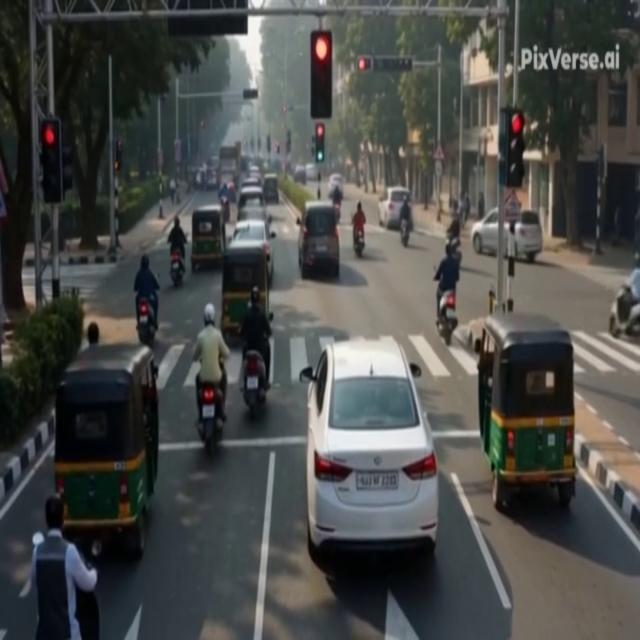car: (300, 338, 438, 559), (296, 201, 339, 279), (230, 220, 275, 285), (514, 210, 543, 263), (379, 186, 410, 229), (237, 206, 272, 230), (238, 184, 265, 209), (263, 174, 279, 204), (328, 174, 343, 194), (293, 166, 306, 184), (242, 176, 261, 188), (305, 164, 317, 182), (205, 178, 218, 191), (249, 172, 262, 185), (249, 164, 261, 174)
scooty: (196, 383, 223, 455), (242, 351, 269, 419), (609, 284, 639, 340), (76, 589, 100, 639), (437, 291, 457, 345), (137, 298, 155, 347), (170, 251, 185, 287), (447, 237, 461, 266), (354, 230, 364, 257), (400, 220, 409, 247)
traffic signal: (499, 107, 525, 187), (40, 118, 63, 204), (310, 31, 332, 119), (506, 109, 525, 188), (62, 141, 73, 194), (315, 122, 325, 162), (597, 144, 606, 182), (114, 140, 123, 172), (357, 56, 373, 72), (286, 130, 291, 153), (266, 134, 271, 154), (311, 135, 315, 156), (276, 142, 280, 156), (257, 137, 261, 151), (200, 120, 204, 128)
truck: (219, 145, 239, 183)
